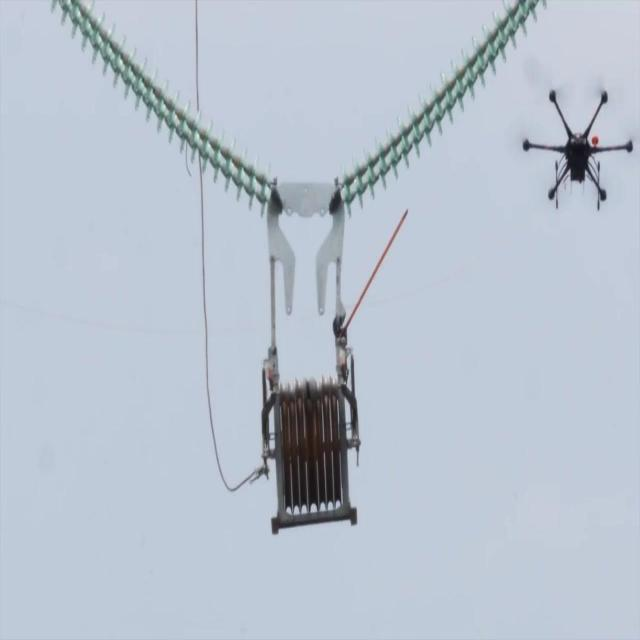drone: (523, 84, 634, 214)
